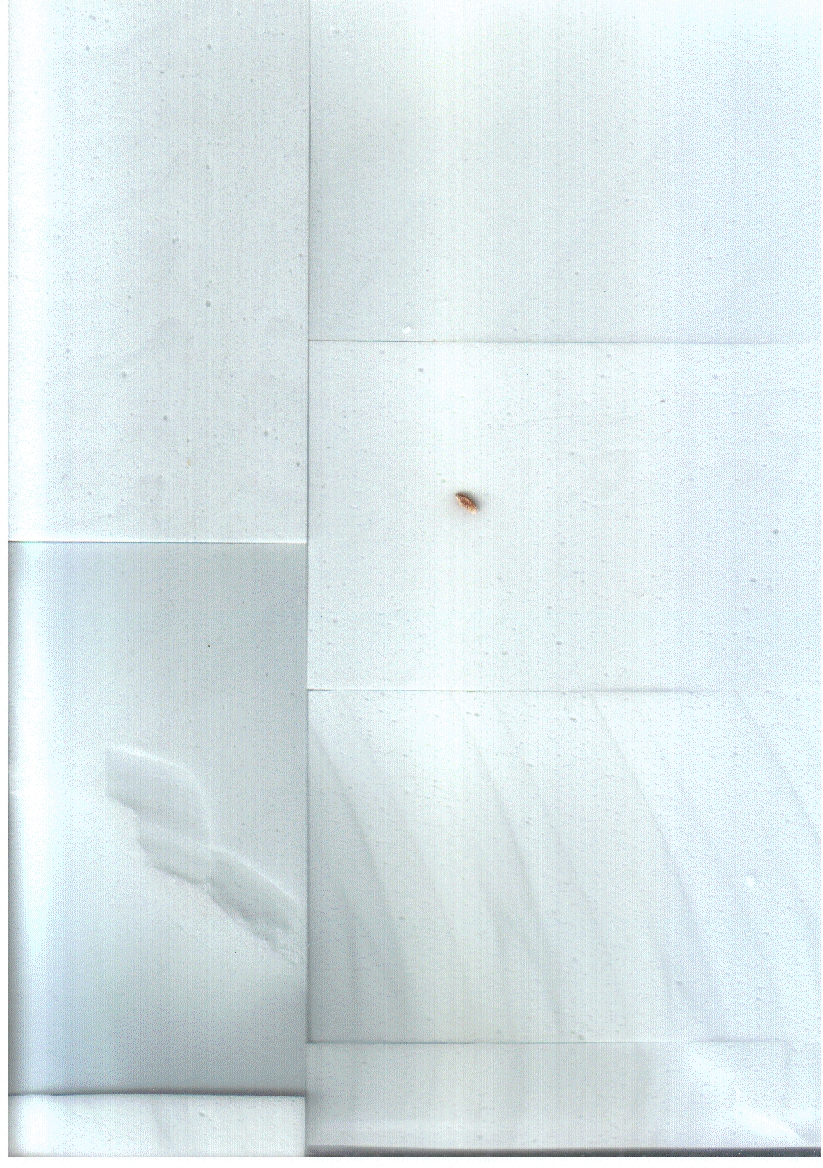grains: (446, 477, 488, 527)
